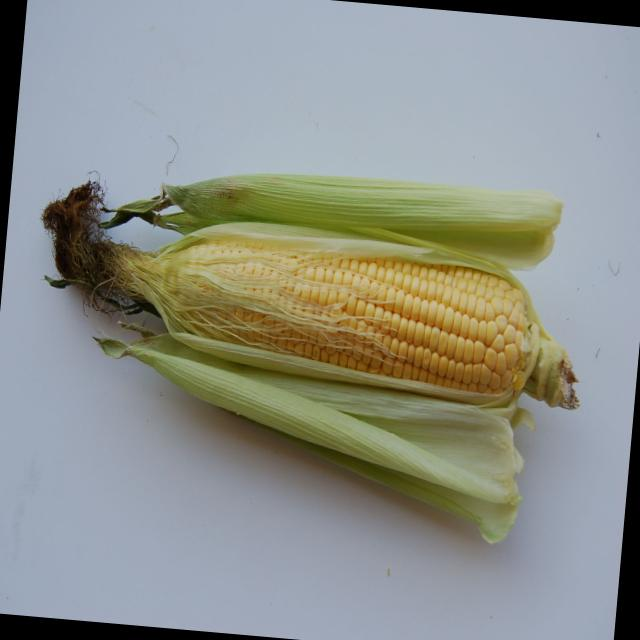corn: (18, 158, 602, 567)
